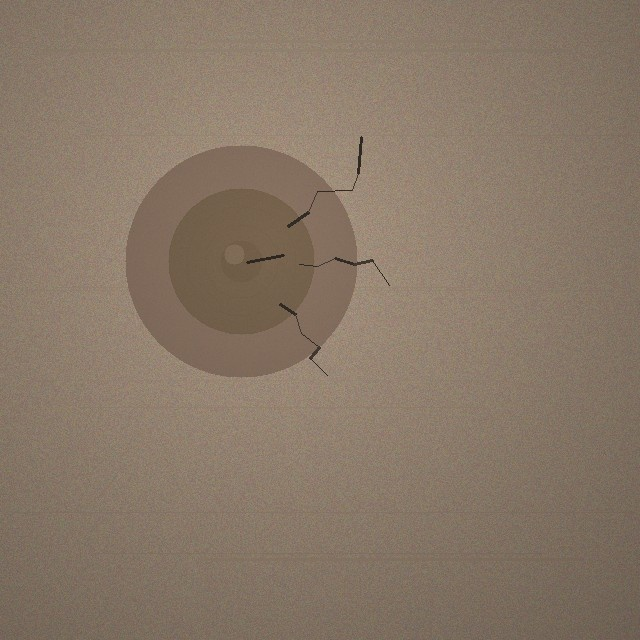crack: (125, 145, 357, 377)
